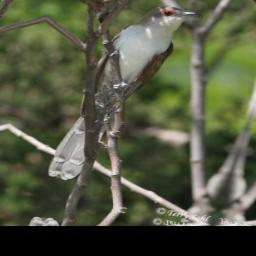Cuckoo: (42, 0, 206, 193)
